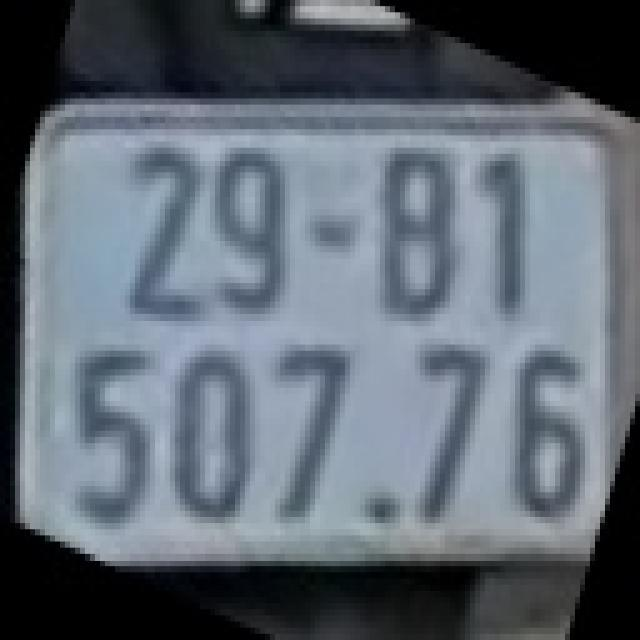0: (170, 344, 255, 524)
1: (475, 148, 530, 314)
2: (120, 142, 205, 320)
5: (70, 338, 155, 524)
6: (510, 344, 585, 524)
7: (270, 338, 350, 524), (410, 338, 485, 524)
9: (215, 141, 290, 314)
B: (375, 147, 460, 320)
